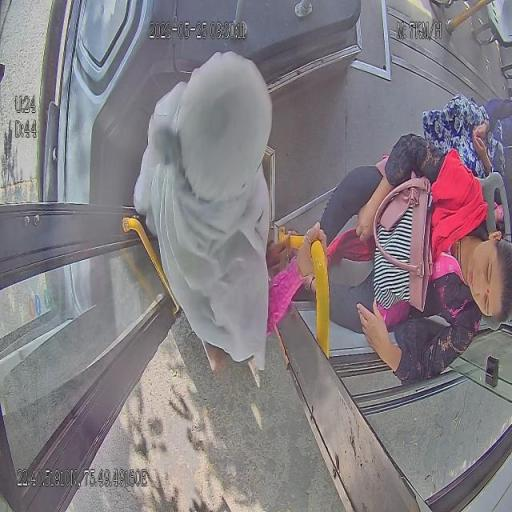persona: (132, 50, 326, 374), (270, 132, 512, 386), (422, 93, 511, 233), (421, 93, 511, 182)
